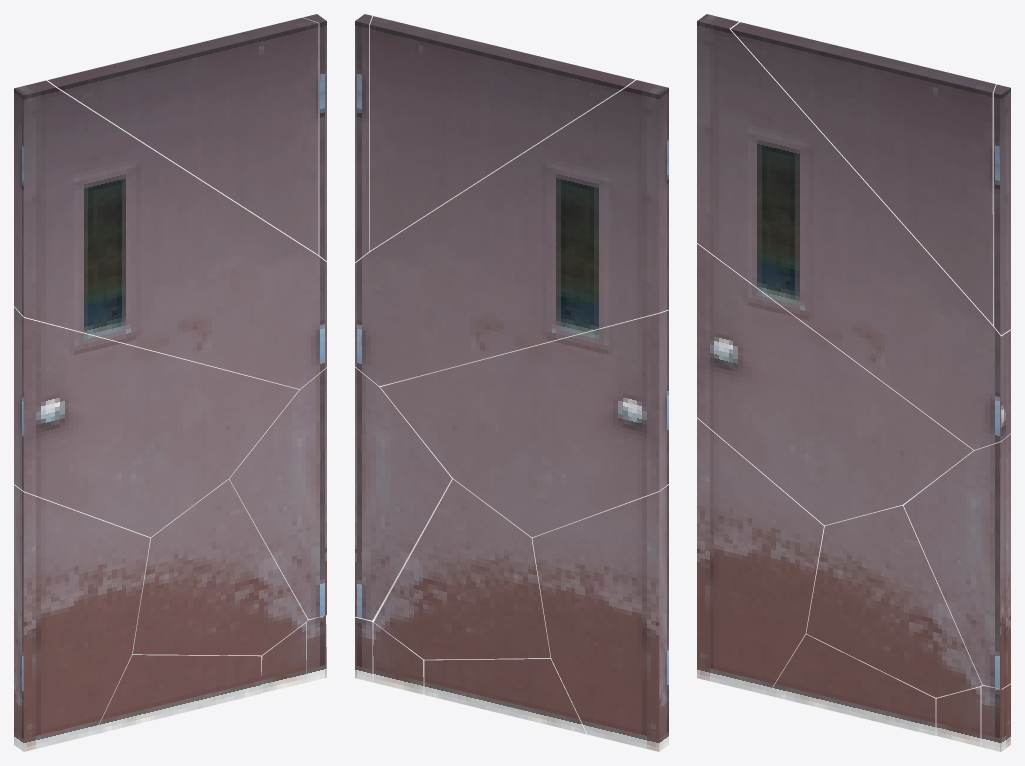
Rendered from door_brown_a dest.glb.
The picture shows the model from 3 angles, left to right: view 1: azimuth 30°, elevation 25°; view 2: azimuth 150°, elevation 25°; view 3: azimuth 330°, elevation 25°; orthographic projection.
Visible parts, largest first — view 1: Door_Shed_A_cell.003, Door_Shed_A_cell.002, Door_Shed_A_cell.004, Door_Shed_A_cell.006, Door_Shed_A_cell.008, Door_Shed_A_cell.001, Door_Shed_A_cell, Door_Shed_A_cell.007, Door_Shed_A_cell.005, Door_Shed_A_cell.009; view 2: Door_Shed_A_cell.003, Door_Shed_A_cell.002, Door_Shed_A_cell.004, Door_Shed_A_cell.006, Door_Shed_A_cell.008, Door_Shed_A_cell.001, Door_Shed_A_cell, Door_Shed_A_cell.005, Door_Shed_A_cell.007, Door_Shed_A_cell.009; view 3: Door_Shed_A_cell.003, Door_Shed_A_cell.002, Door_Shed_A_cell.004, Door_Shed_A_cell.006, Door_Shed_A_cell.008, Door_Shed_A_cell.001, Door_Shed_A_cell, Door_Shed_A_cell.005, Door_Shed_A_cell.007, Door_Shed_A_cell.009.
Boxes of the visible parts, left/top/right/bottom form: Door_Shed_A_cell.003: left=14, top=80, right=326, bottom=388; Door_Shed_A_cell.002: left=14, top=307, right=298, bottom=537; Door_Shed_A_cell.004: left=48, top=17, right=318, bottom=254; Door_Shed_A_cell.006: left=14, top=485, right=150, bottom=751; Door_Shed_A_cell.008: left=132, top=479, right=307, bottom=655; Door_Shed_A_cell.001: left=229, top=367, right=326, bottom=619; Door_Shed_A_cell: left=94, top=654, right=261, bottom=734; Door_Shed_A_cell.007: left=259, top=622, right=306, bottom=692; Door_Shed_A_cell.005: left=303, top=14, right=326, bottom=261; Door_Shed_A_cell.009: left=306, top=615, right=326, bottom=682; Door_Shed_A_cell.003: left=355, top=80, right=668, bottom=386; Door_Shed_A_cell.002: left=380, top=310, right=668, bottom=537; Door_Shed_A_cell.004: left=370, top=16, right=634, bottom=250; Door_Shed_A_cell.006: left=532, top=485, right=668, bottom=751; Door_Shed_A_cell.008: left=374, top=479, right=550, bottom=659; Door_Shed_A_cell.001: left=355, top=367, right=453, bottom=620; Door_Shed_A_cell: left=424, top=658, right=586, bottom=734; Door_Shed_A_cell.005: left=355, top=14, right=372, bottom=262; Door_Shed_A_cell.007: left=373, top=622, right=424, bottom=694; Door_Shed_A_cell.009: left=355, top=617, right=375, bottom=682; Door_Shed_A_cell.003: left=697, top=14, right=1010, bottom=449; Door_Shed_A_cell.002: left=697, top=243, right=974, bottom=525; Door_Shed_A_cell.004: left=730, top=22, right=995, bottom=324; Door_Shed_A_cell.006: left=697, top=418, right=825, bottom=695; Door_Shed_A_cell.008: left=806, top=498, right=982, bottom=697; Door_Shed_A_cell.001: left=903, top=434, right=1010, bottom=689; Door_Shed_A_cell: left=768, top=634, right=937, bottom=735; Door_Shed_A_cell.005: left=993, top=84, right=1010, bottom=335; Door_Shed_A_cell.007: left=936, top=685, right=982, bottom=746; Door_Shed_A_cell.009: left=981, top=684, right=1010, bottom=751.
Bounding box in the file's own units: 0.9145 × 1.89 × 0.053.
Materials: 2 (1 with a texture image).
